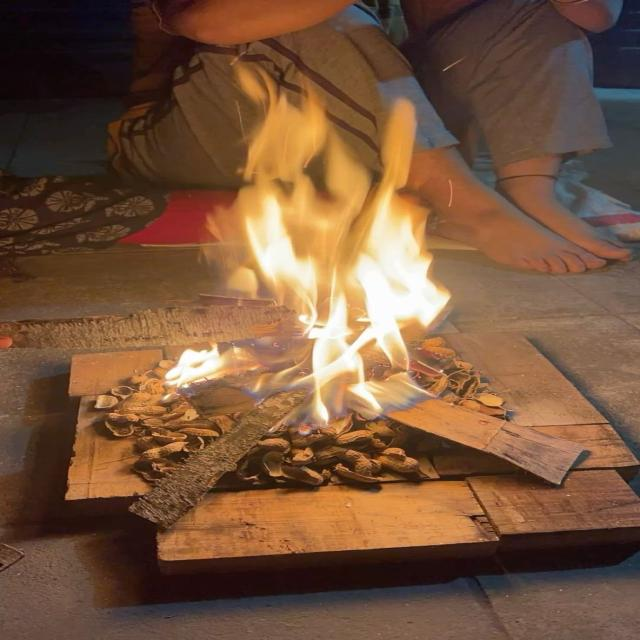fire: (245, 62, 451, 437), (164, 341, 224, 388)
